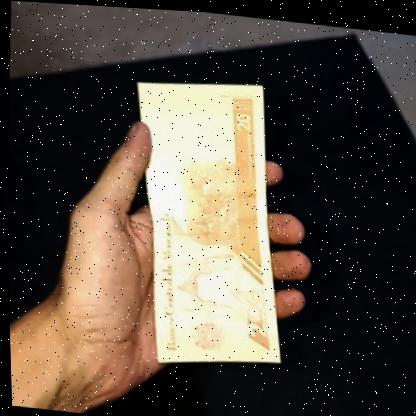vef_back: (120, 69, 291, 375)
